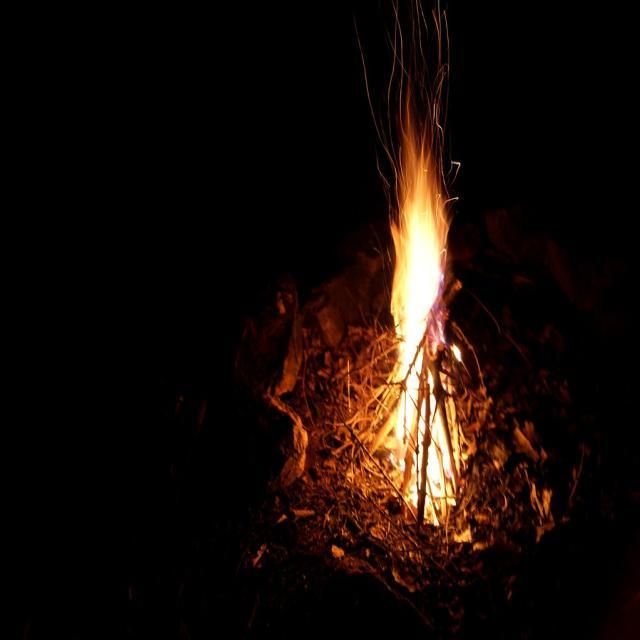Fire: (358, 48, 484, 540)
